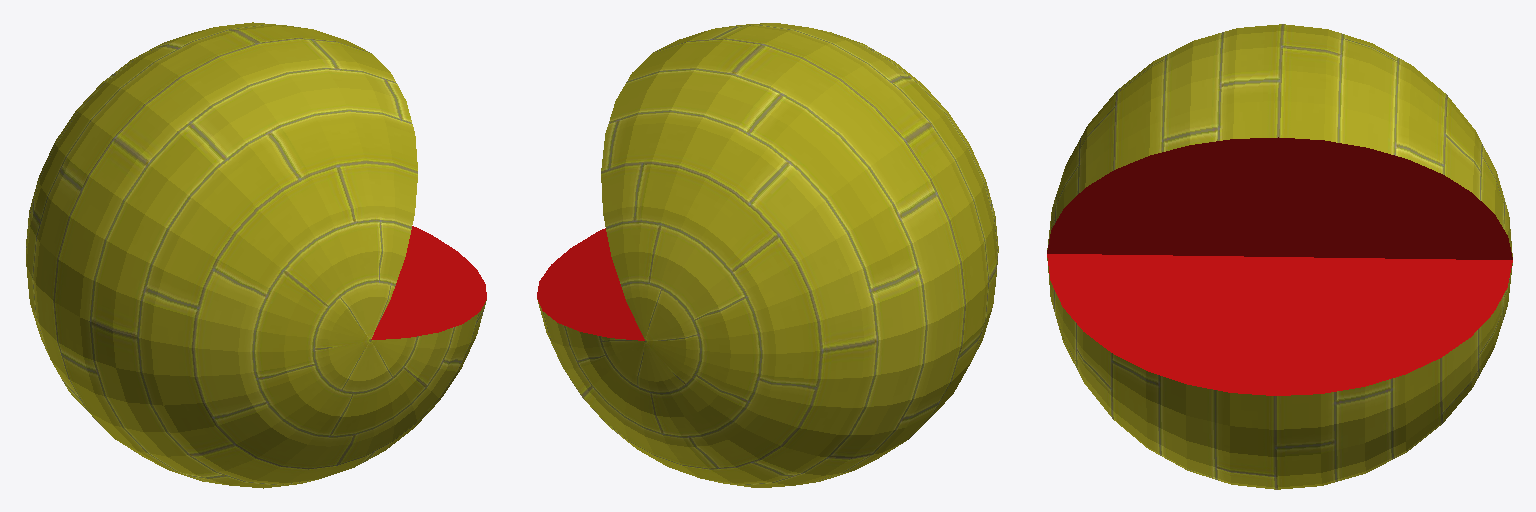
3 views of the same model, side by side, from view 1: azimuth 30°, elevation 25°; view 2: azimuth 150°, elevation 25°; view 3: azimuth 270°, elevation 25° (orthographic).
Visible parts, largest first — view 1: Sphere; view 2: Sphere; view 3: Sphere.
Boxes of the visible parts, x1,y1,x2,y2 form: Sphere: [26, 22, 486, 488]; Sphere: [537, 23, 998, 487]; Sphere: [1047, 24, 1512, 489].
Bounding box in the file's own units: 1.98 × 2 × 2.
Materials: 2 (1 with a texture image).